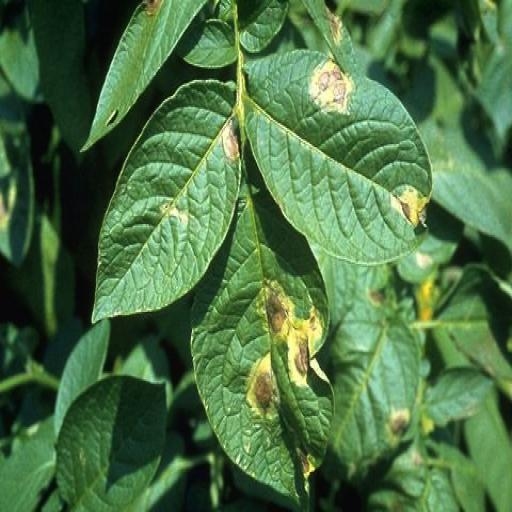Early Blight: (188, 190, 344, 512), (236, 48, 445, 277), (88, 62, 246, 338)
